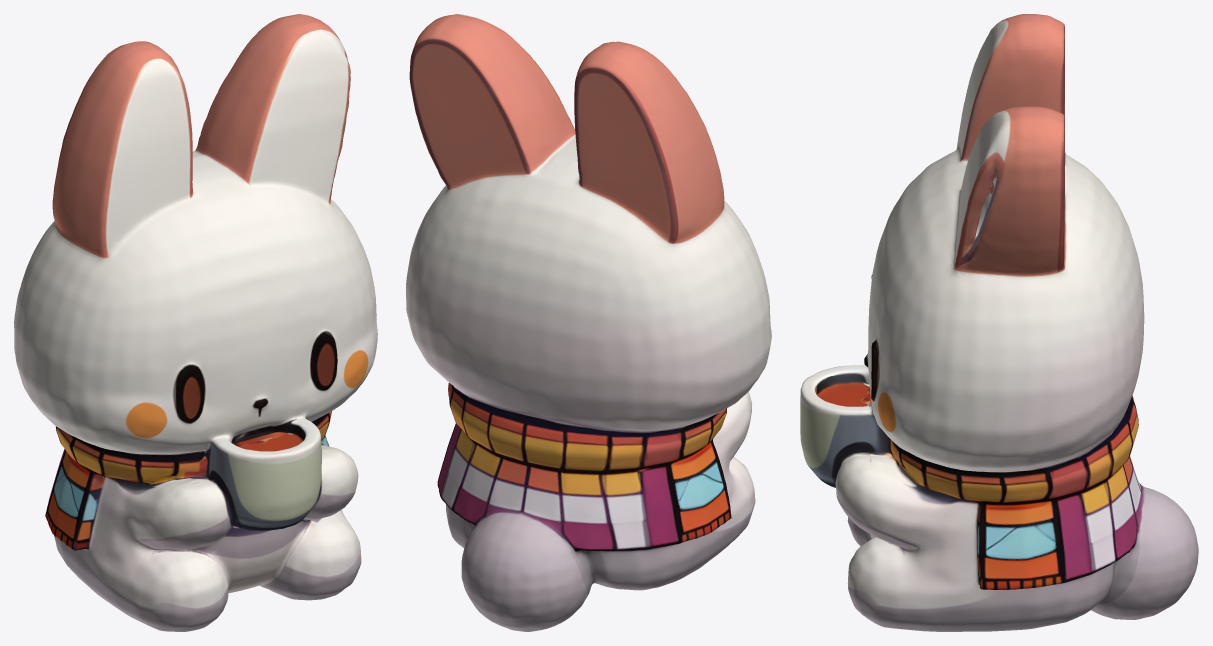
File: bunny.glb
3 renders of one model, left to right at view 1: azimuth 30°, elevation 25°; view 2: azimuth 150°, elevation 25°; view 3: azimuth 270°, elevation 25°, orthographic. The views are drawn at different scales.
Visible parts, largest first — view 1: Object_2; view 2: Object_2; view 3: Object_2.
Part boxes in pixels (<box>): Object_2: <box>14,14,377,631</box>; Object_2: <box>406,14,771,631</box>; Object_2: <box>800,14,1198,631</box>.
Size of the model in its own units: 1.17 by 1.91 by 1.2.
Materials: 1 (1 with a texture image).
